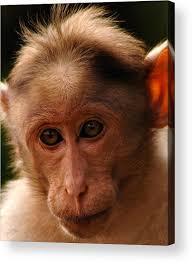monkey: (10, 7, 160, 250)
